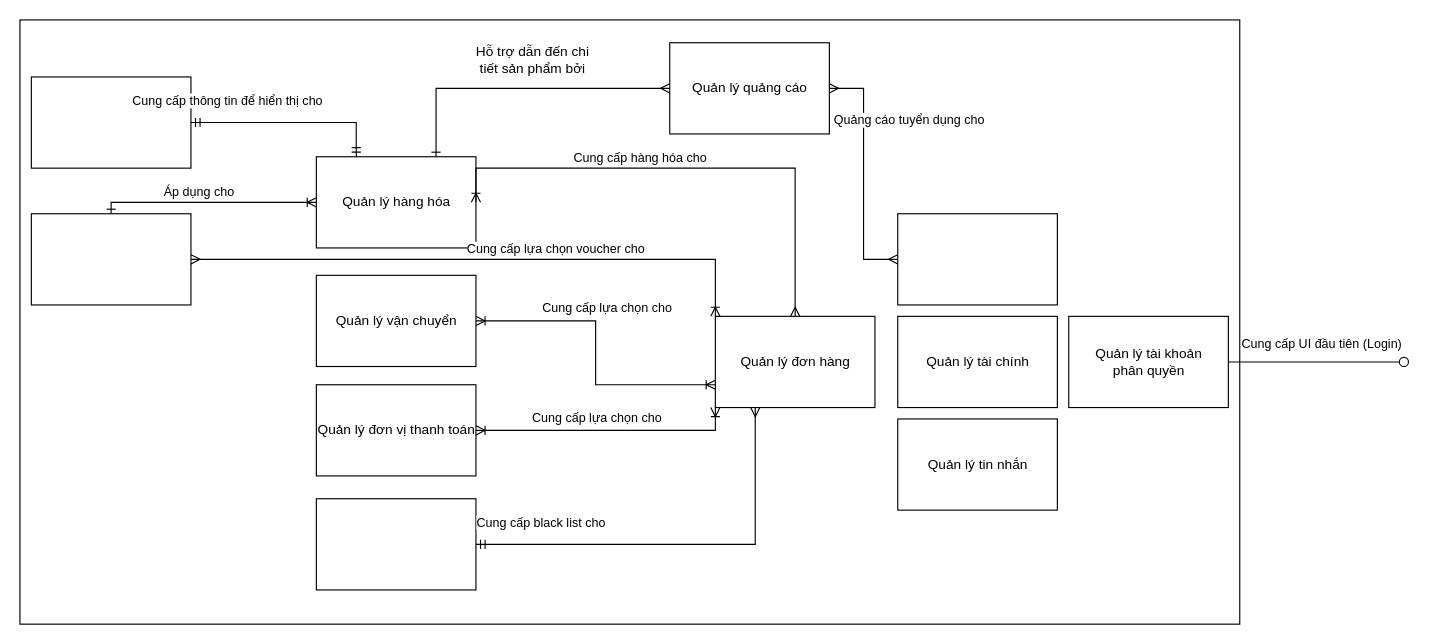
Image size: 1454x644. Some labels were removed from this diagram. The shapes that lost their labels are listed below. From the top down, each one's box as (x1, y1, x2, y2) in pixels, then its label:
(30, 76, 191, 168): CRUD thông tin người bán
(30, 213, 191, 305): Quản lý khuyến mãi
(897, 213, 1057, 305): Quản lý nhân sự
(315, 498, 476, 590): Quản lý khách hàng
